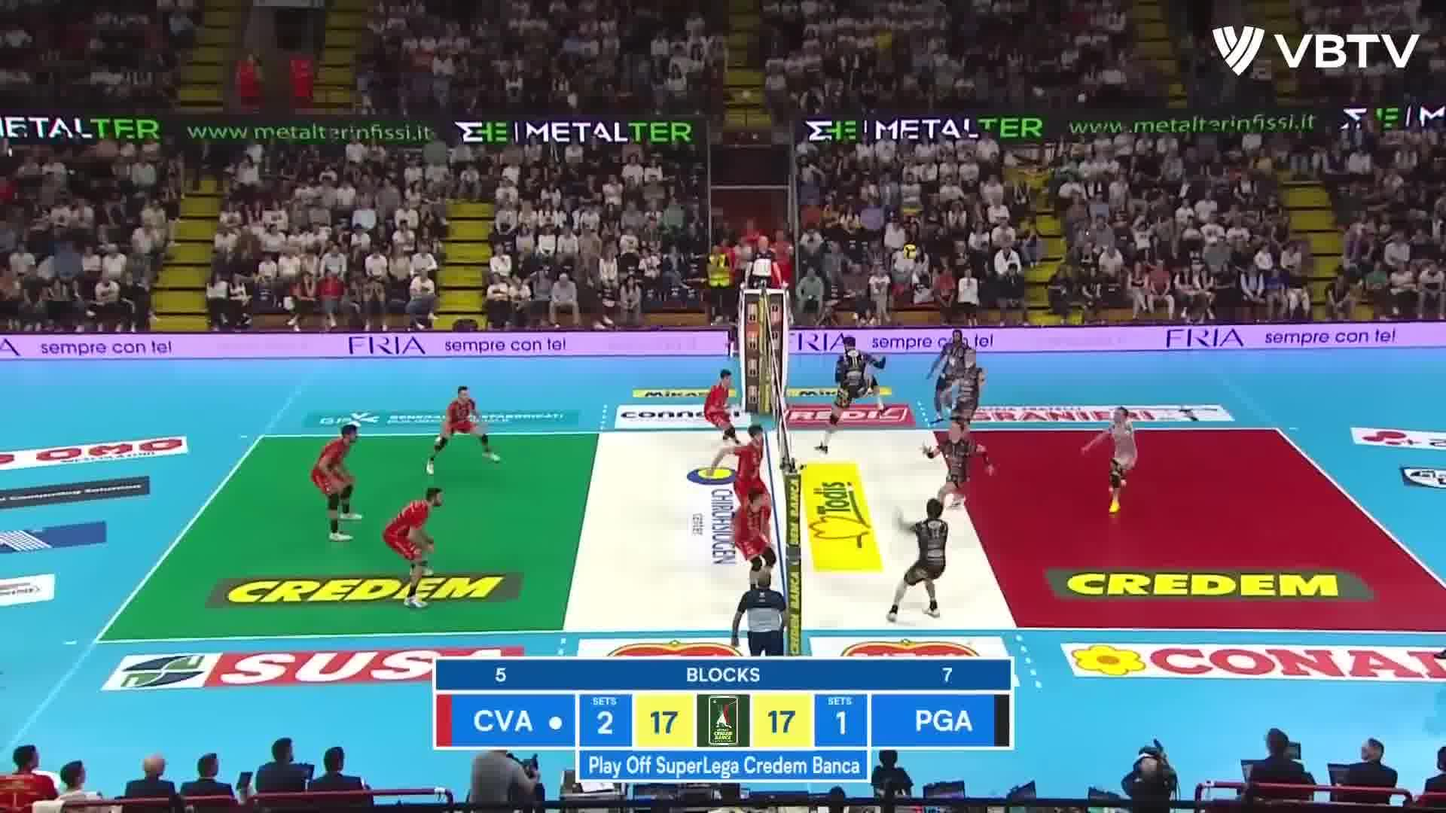balls: (900, 243, 920, 262)
